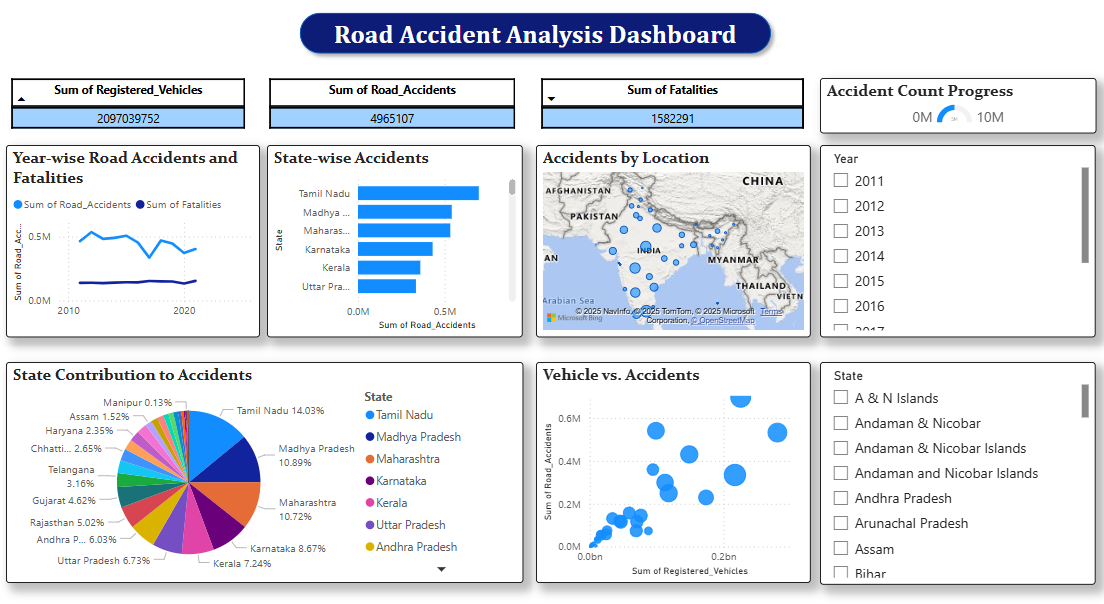

What the dashboard file says about the page in this screenshot:
{"tool":"powerbi","page":{"name":"Page 1","canvas":[1280,720],"ordinal":0},"visuals":[{"type":"tableEx","fields":{"Values":["Sum(Cleaned_VehicleRoadAccident.Registered_Vehicles)"]},"box":[10,91.4,282.9,68.6],"z":0},{"type":"tableEx","fields":{"Values":["Sum(Cleaned_VehicleRoadAccident.Road_Accidents)"]},"box":[308.3,91.7,298.3,70],"z":1000},{"type":"tableEx","fields":{"Values":["Sum(Cleaned_VehicleRoadAccident.Fatalities)"]},"box":[621.7,91.7,316.7,70],"z":2000},{"type":"lineChart","title":"Year-wise Road Accidents and Fatalities","fields":{"Category":["Cleaned_VehicleRoadAccident.Year"],"Y":["Sum(Cleaned_VehicleRoadAccident.Road_Accidents)","Sum(Cleaned_VehicleRoadAccident.Fatalities)"]},"box":[10,173.3,293.3,221.7],"z":3000},{"type":"clusteredBarChart","title":"State-wise Accidents","fields":{"Y":["Sum(Cleaned_VehicleRoadAccident.Road_Accidents)"],"Category":["Cleaned_VehicleRoadAccident.State"]},"box":[311.7,173.3,295,221.7],"z":4000},{"type":"pieChart","title":"State Contribution to Accidents","fields":{"Y":["Sum(Cleaned_VehicleRoadAccident.Road_Accidents)"],"Category":["Cleaned_VehicleRoadAccident.State"]},"box":[10,423.3,596.7,255],"z":5000},{"type":"map","title":"Accidents by Location","fields":{"Category":["Cleaned_VehicleRoadAccident.State"],"Size":["Sum(Cleaned_VehicleRoadAccident.Road_Accidents)"]},"box":[621.7,173.3,316.7,221.7],"z":6000},{"type":"scatterChart","title":"Vehicle vs. Accidents","fields":{"X":["Sum(Cleaned_VehicleRoadAccident.Registered_Vehicles)"],"Y":["Sum(Cleaned_VehicleRoadAccident.Road_Accidents)"],"Size":["Sum(Cleaned_VehicleRoadAccident.Fatalities)"],"Category":["Cleaned_VehicleRoadAccident.State"]},"box":[621.7,423.3,316.7,255],"z":7000},{"type":"slicer","fields":{"Values":["Cleaned_VehicleRoadAccident.Year"]},"box":[950,173.3,318.3,221.7],"z":8000},{"type":"slicer","fields":{"Values":["Cleaned_VehicleRoadAccident.State"]},"box":[950,423.3,318.3,256.7],"z":9000},{"type":"shape","box":[340,11.7,561.7,65],"z":10000},{"type":"gauge","title":"Accident Count Progress","fields":{"Y":["Sum(Cleaned_VehicleRoadAccident.Road_Accidents)"]},"box":[950,95.7,318.6,64.3],"z":11000}]}

Visuals, with their boxes in screenshot pixels (x1, y1, x2, y2), scaled from the page's 1280x720 canvas onto the 1104x604 screenshot:
tableEx - Sum(Cleaned_VehicleRoadAccident.Registered_Vehicles): rect(9, 77, 253, 134)
tableEx - Sum(Cleaned_VehicleRoadAccident.Road_Accidents): rect(266, 77, 523, 136)
tableEx - Sum(Cleaned_VehicleRoadAccident.Fatalities): rect(536, 77, 809, 136)
"Year-wise Road Accidents and Fatalities" lineChart: rect(9, 145, 262, 331)
"State-wise Accidents" clusteredBarChart: rect(269, 145, 523, 331)
"State Contribution to Accidents" pieChart: rect(9, 355, 523, 569)
"Accidents by Location" map: rect(536, 145, 809, 331)
"Vehicle vs. Accidents" scatterChart: rect(536, 355, 809, 569)
slicer - Cleaned_VehicleRoadAccident.Year: rect(819, 145, 1094, 331)
slicer - Cleaned_VehicleRoadAccident.State: rect(819, 355, 1094, 570)
shape: rect(293, 10, 778, 64)
"Accident Count Progress" gauge: rect(819, 80, 1094, 134)
